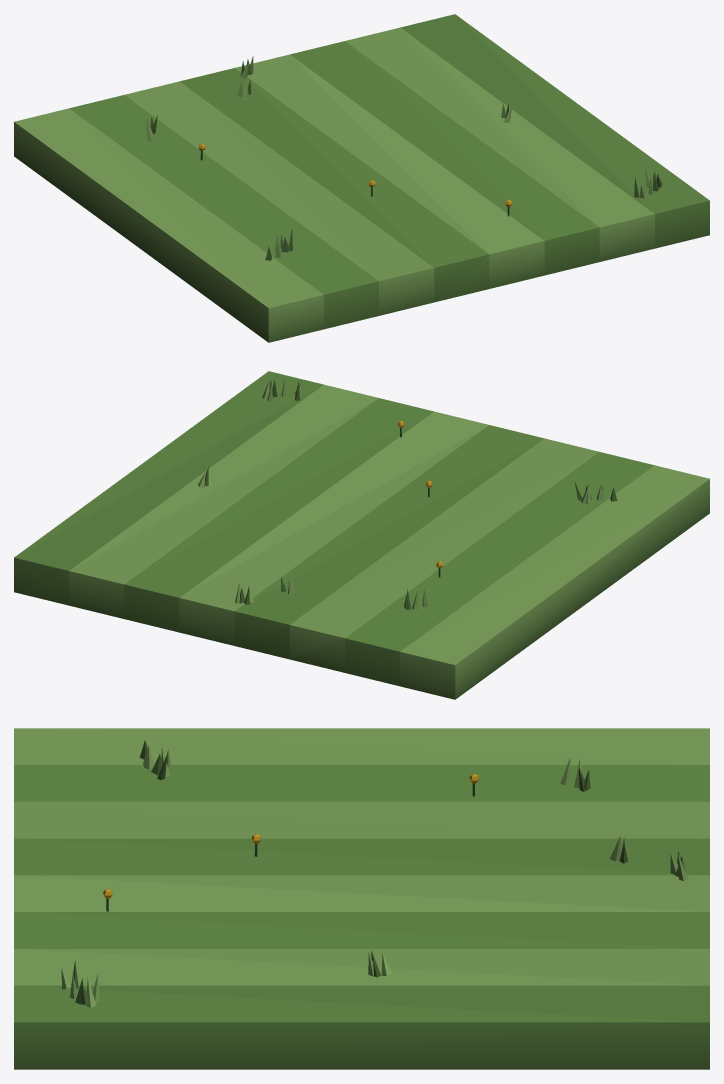
File: front-lawn-tile.glb
3 renders of one model, top to bottom at view 1: azimuth 30°, elevation 25°; view 2: azimuth 150°, elevation 25°; view 3: azimuth 270°, elevation 25°, orthographic. The views are drawn at different scales.
Parts seen in each view (by area): view 1: front_lawn_tile; view 2: front_lawn_tile; view 3: front_lawn_tile.
Part boxes in pixels (x1,y1,x2,y2): front_lawn_tile: (14,14,709,342); front_lawn_tile: (14,371,709,699); front_lawn_tile: (14,728,709,1069).
Bounding box in the file's own units: 4 × 0.4759 × 4.
